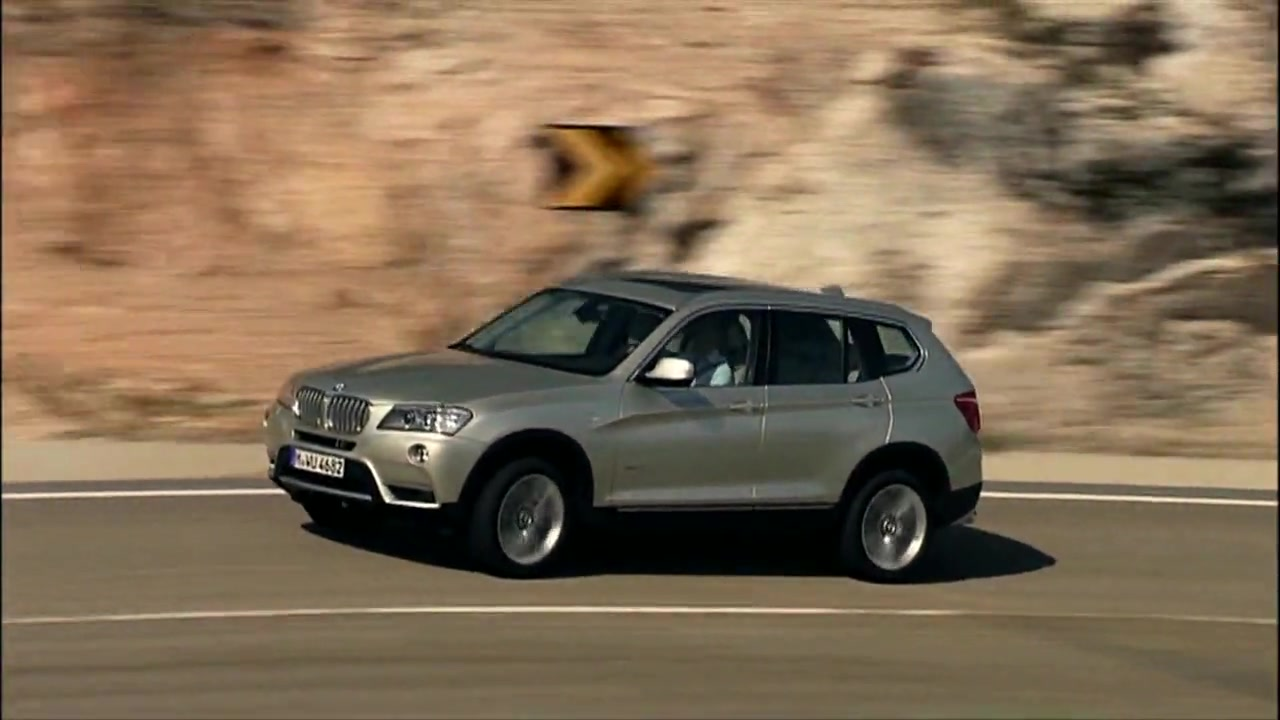car: (262, 268, 991, 590)
